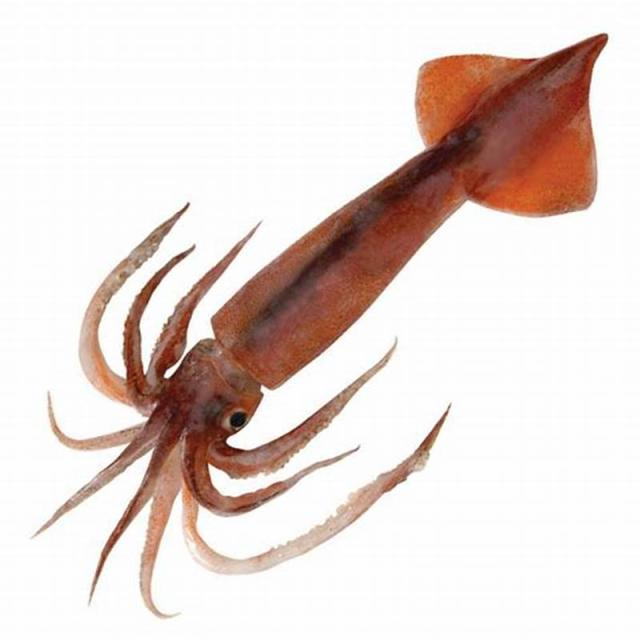SQUID: (28, 6, 614, 606)
